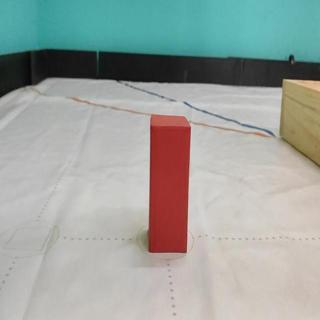redbox: (149, 114, 191, 253)
